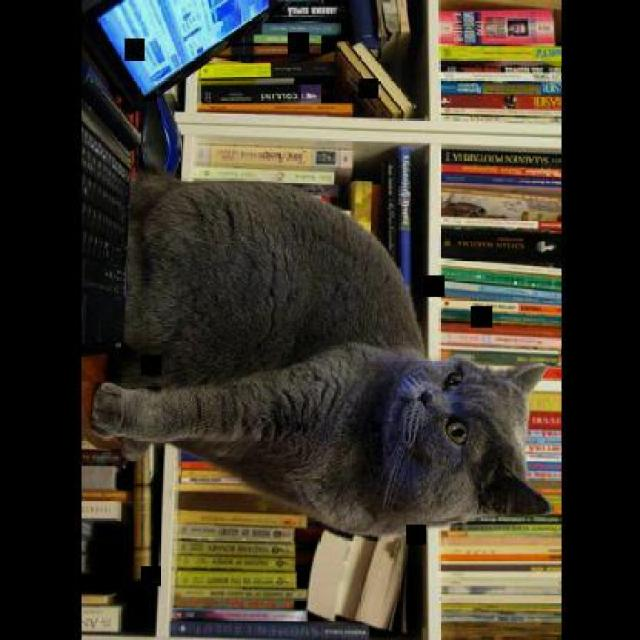unauthorized: (89, 167, 549, 538)
